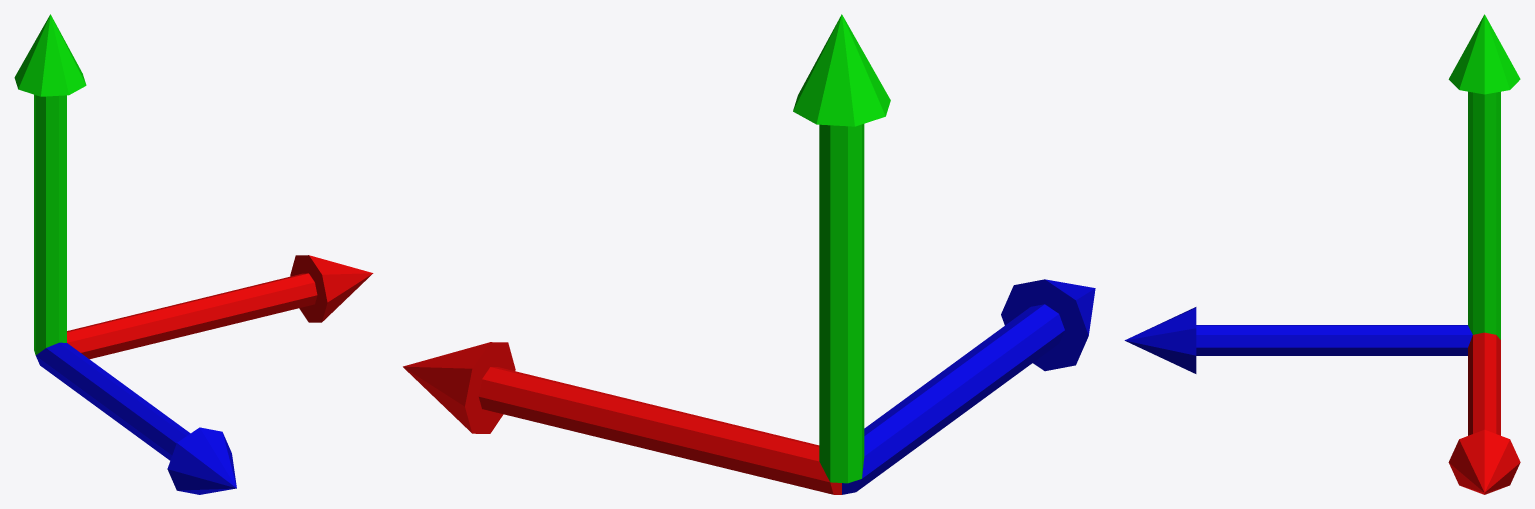
File: arrow.dae
3 views of the same model, side by side, from view 1: azimuth 30°, elevation 25°; view 2: azimuth 150°, elevation 25°; view 3: azimuth 270°, elevation 25° (orthographic). The views are drawn at different scales.
Visible parts, largest first — view 1: ArrowY, ArrowX, ArrowZ; view 2: ArrowY, ArrowX, ArrowZ; view 3: ArrowY, ArrowZ, ArrowX.
Part boxes in pixels (x1=…): ArrowY: x1=14, y1=14, x2=86, y2=355; ArrowX: x1=67, y1=255, x2=373, y2=359; ArrowZ: x1=36, y1=342, x2=236, y2=494; ArrowY: x1=793, y1=14, x2=890, y2=483; ArrowX: x1=403, y1=342, x2=841, y2=494; ArrowZ: x1=842, y1=279, x2=1095, y2=494; ArrowY: x1=1448, y1=14, x2=1520, y2=339; ArrowZ: x1=1124, y1=307, x2=1472, y2=373; ArrowX: x1=1448, y1=332, x2=1520, y2=494.
Size of the model in its own units: 5.5 by 5.5 by 5.5.
